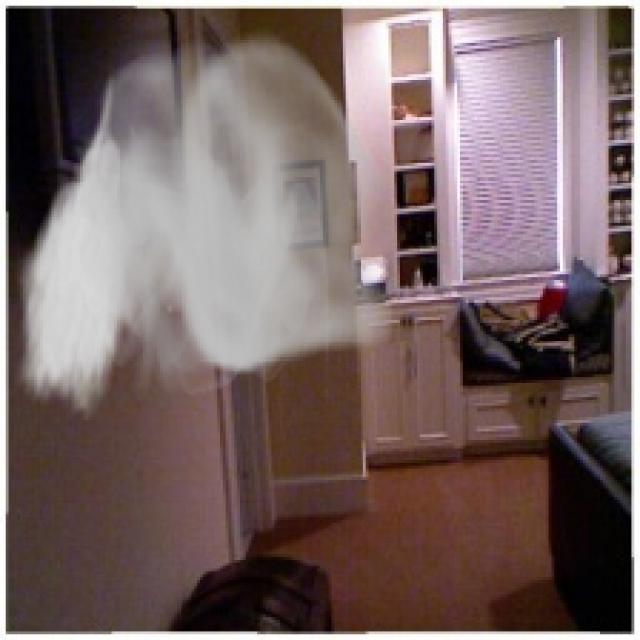smoke: (14, 23, 394, 420)
